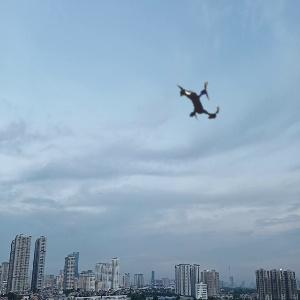drone: (162, 63, 240, 141)
